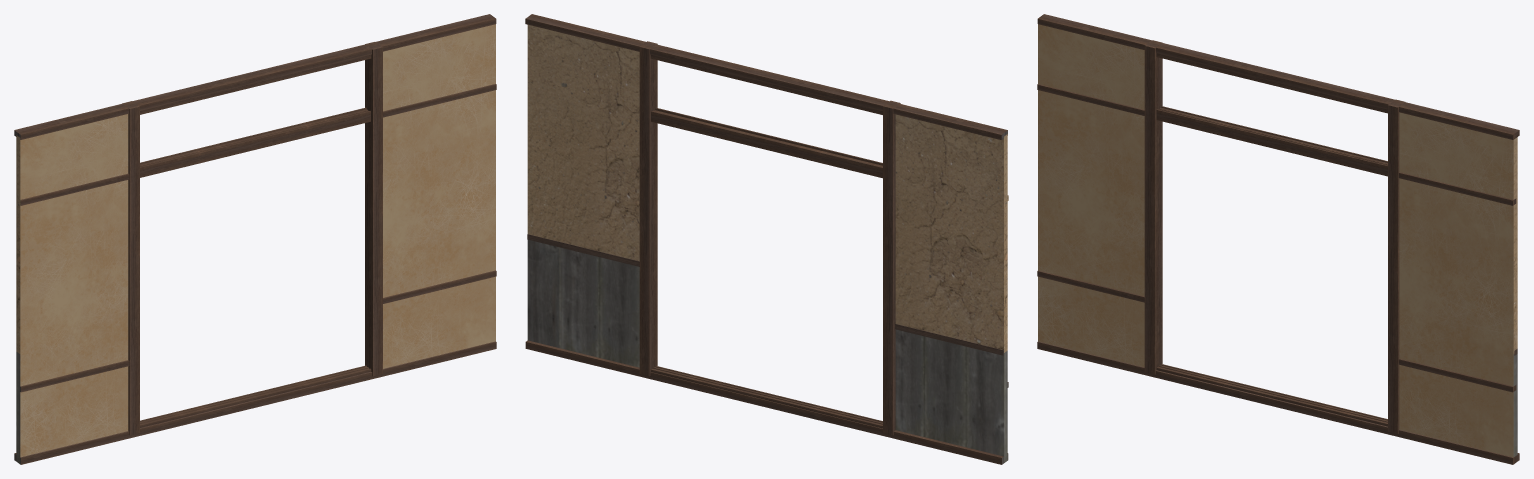
The model's file is jov_outwall02_2t_to_b2.fbx.
3 renders of one model, left to right at view 1: azimuth 30°, elevation 25°; view 2: azimuth 150°, elevation 25°; view 3: azimuth 330°, elevation 25°, orthographic.
Visible parts, largest first — view 1: jov_outwall02_2t_to_b2; view 2: jov_outwall02_2t_to_b2; view 3: jov_outwall02_2t_to_b2.
Boxes of the visible parts, x1,y1,x2,y2 form: jov_outwall02_2t_to_b2: (14, 14, 496, 464); jov_outwall02_2t_to_b2: (525, 14, 1008, 464); jov_outwall02_2t_to_b2: (1037, 14, 1519, 464).
Bounding box in the file's own units: 440 × 292 × 12.44.
